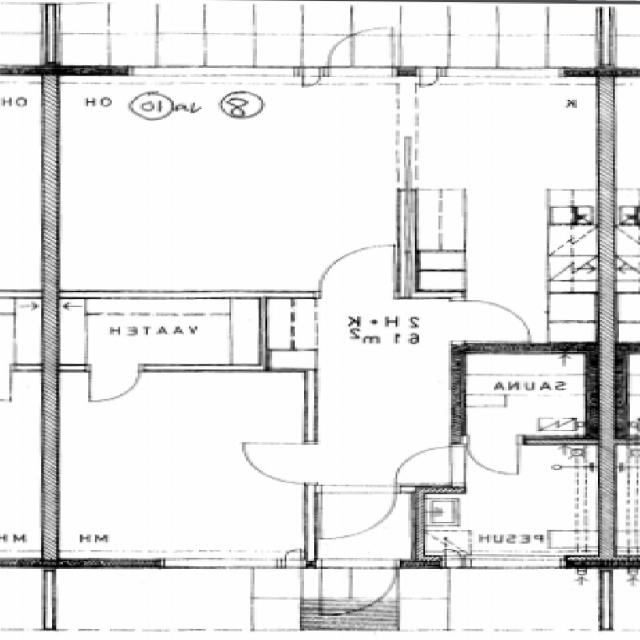door: (322, 558, 398, 614), (322, 485, 398, 538), (320, 245, 395, 298), (329, 25, 393, 75), (452, 300, 529, 340), (242, 443, 317, 483), (393, 447, 465, 483), (467, 436, 518, 476), (90, 364, 139, 402)
